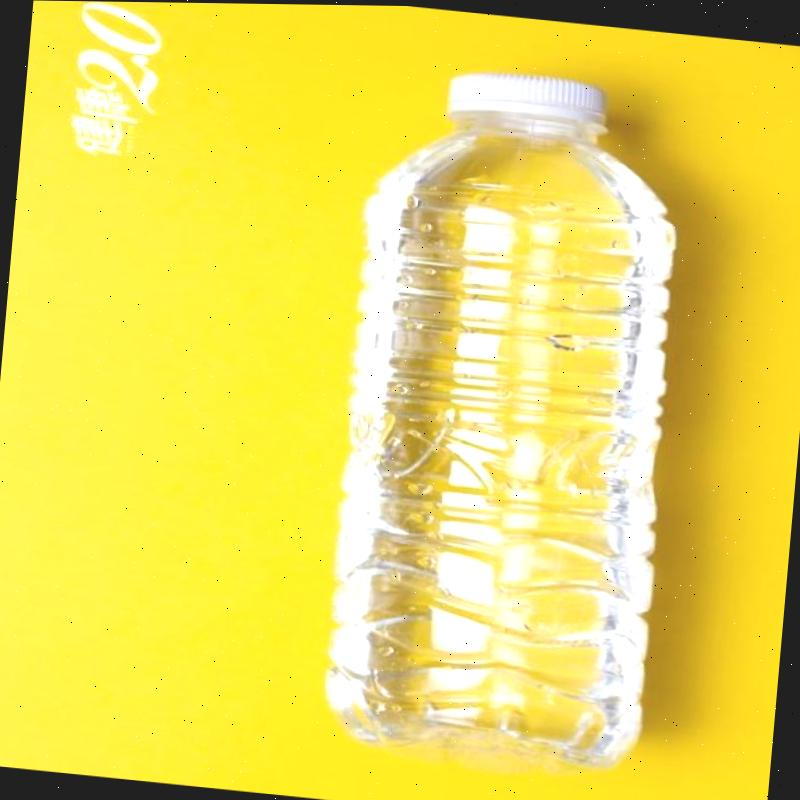botella: (318, 55, 702, 780)
